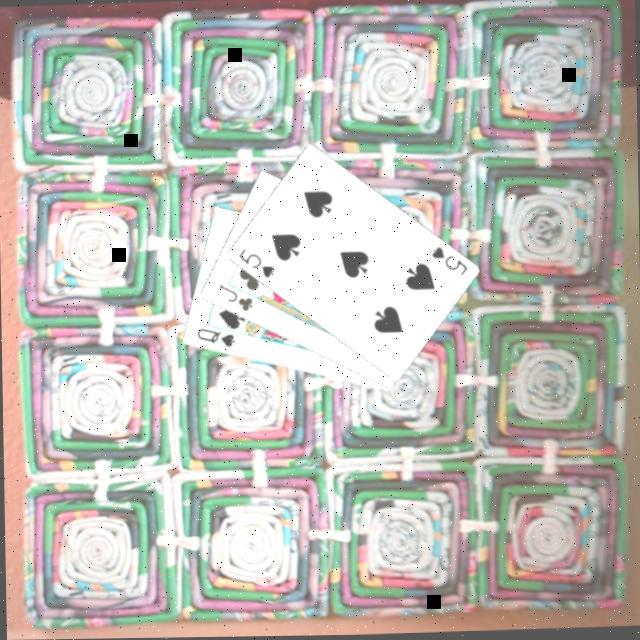5S: (235, 245, 278, 284), (428, 243, 470, 282)
JC: (214, 282, 256, 316)
QS: (193, 325, 239, 353)
